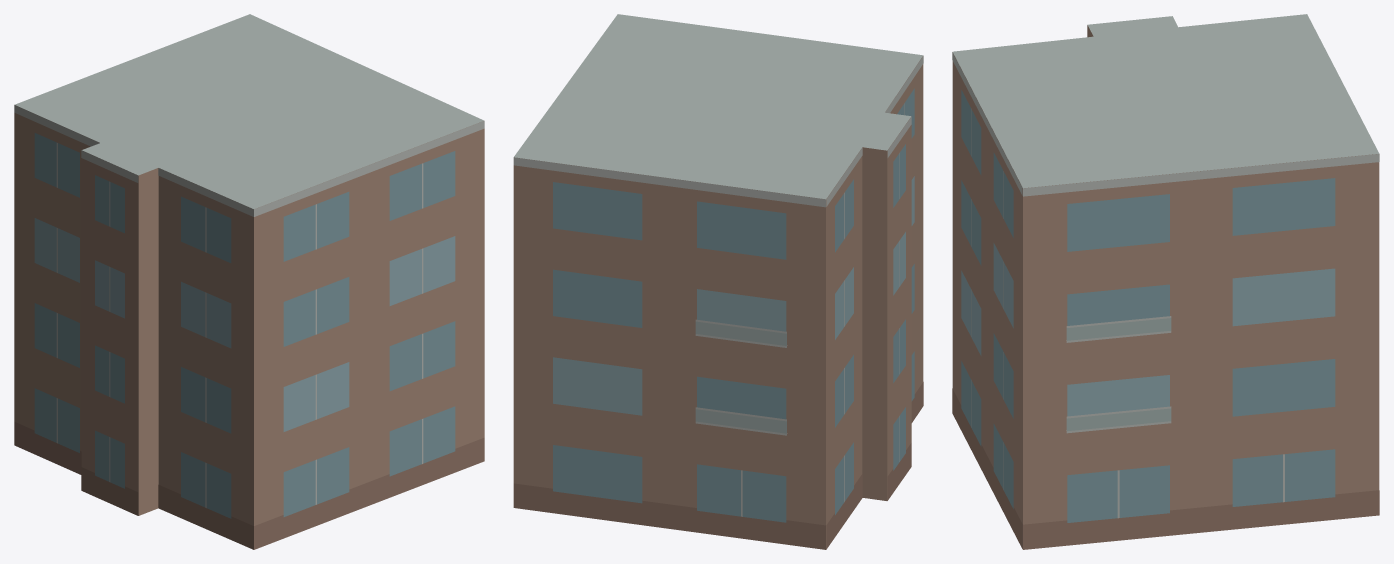
The model's file is survey-upis-33015319.glb.
3 renders of one model, left to right at view 1: azimuth 30°, elevation 25°; view 2: azimuth 150°, elevation 25°; view 3: azimuth 270°, elevation 25°, orthographic. The views are drawn at different scales.
Visible parts, largest first — view 1: survey-upis-33015319.tmp; view 2: survey-upis-33015319.tmp; view 3: survey-upis-33015319.tmp.
Part boxes in pixels (box(x1,y1,x2,y2)): survey-upis-33015319.tmp: box(14, 14, 484, 549); survey-upis-33015319.tmp: box(513, 14, 923, 549); survey-upis-33015319.tmp: box(952, 14, 1379, 549).
Bounding box in the file's own units: 10.91 × 10.55 × 11.3.
